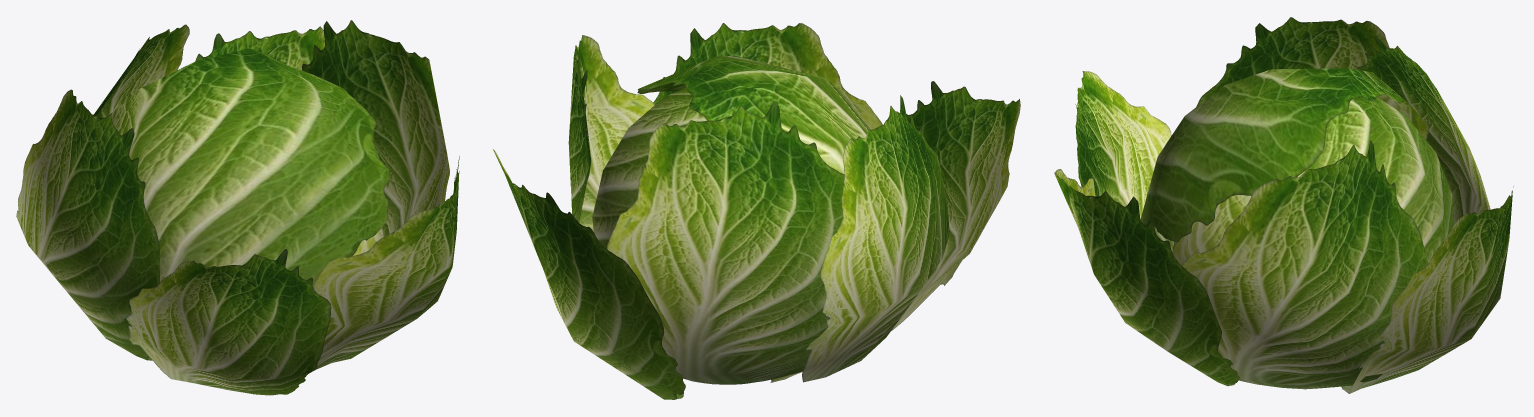
File: Repolho.fbx
3 views of the same model, side by side, from view 1: azimuth 30°, elevation 25°; view 2: azimuth 150°, elevation 25°; view 3: azimuth 270°, elevation 25° (orthographic). The views are drawn at different scales.
Visible parts, largest first — view 1: RepolhoLOD0; view 2: RepolhoLOD0; view 3: RepolhoLOD0.
Part boxes in pixels (x1,y1,x2,y2): RepolhoLOD0: [16, 20, 459, 395]; RepolhoLOD0: [493, 23, 1020, 399]; RepolhoLOD0: [1054, 17, 1513, 393].
Size of what is drawn, in the model's own units: 89.45 by 73.39 by 99.11.
Materials: 1 (1 with a texture image).
